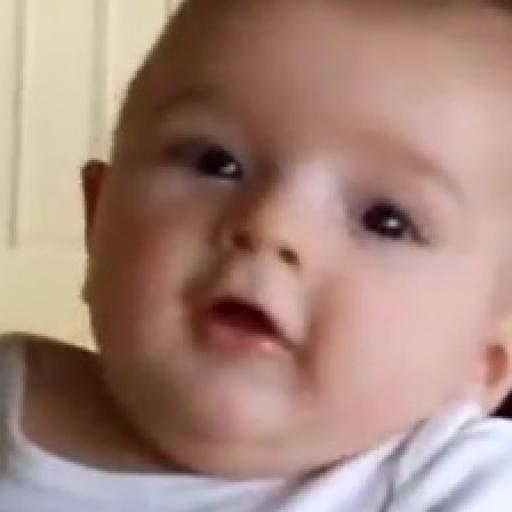Autism: (119, 7, 512, 462)
